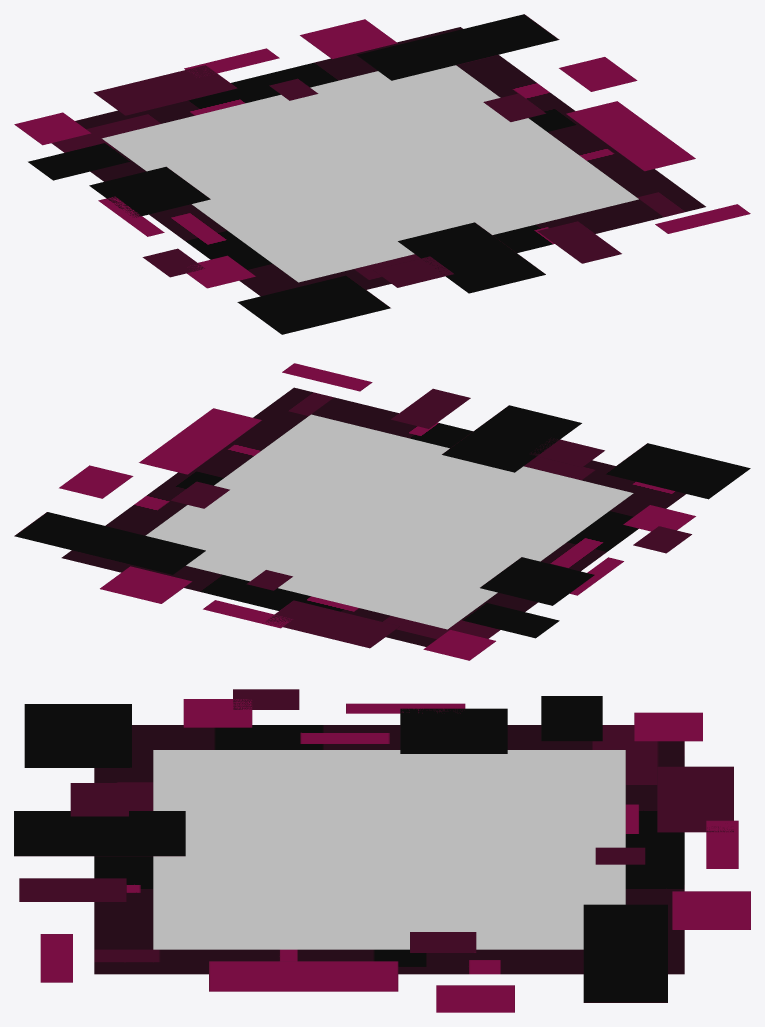
Rendered from Gate.fbx.
3 renders of one model, top to bottom at view 1: azimuth 30°, elevation 25°; view 2: azimuth 150°, elevation 25°; view 3: azimuth 270°, elevation 25°, orthographic. The views are drawn at different scales.
Parts seen in each view (by area): view 1: Plane, 3DViewPlate; view 2: Plane, 3DViewPlate; view 3: Plane, 3DViewPlate.
Part boxes in pixels (x1,y1,x2,y2): Plane: (14, 14, 750, 334); 3DViewPlate: (102, 65, 638, 282); Plane: (14, 363, 750, 660); 3DViewPlate: (145, 414, 633, 629); Plane: (14, 689, 750, 1012); 3DViewPlate: (153, 750, 625, 949).
Size of the model in its own units: 570 by 5 by 549.
Materials: 2 (1 with a texture image).
